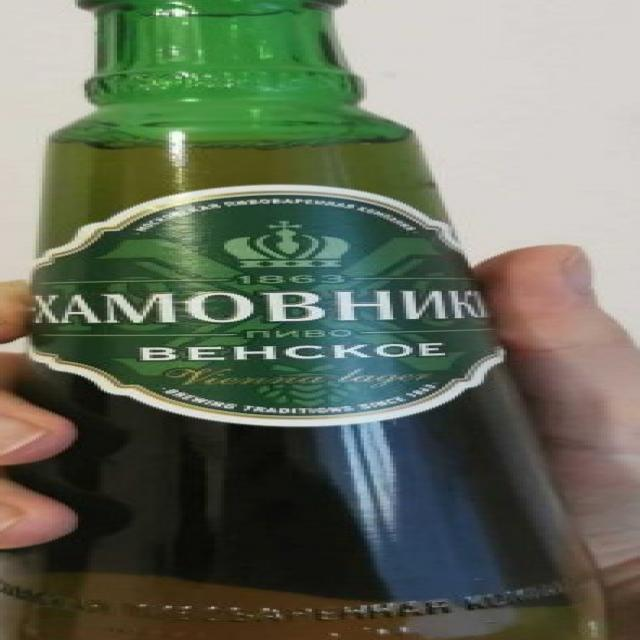Hamovniki Venskoe: (0, 1, 640, 640)
